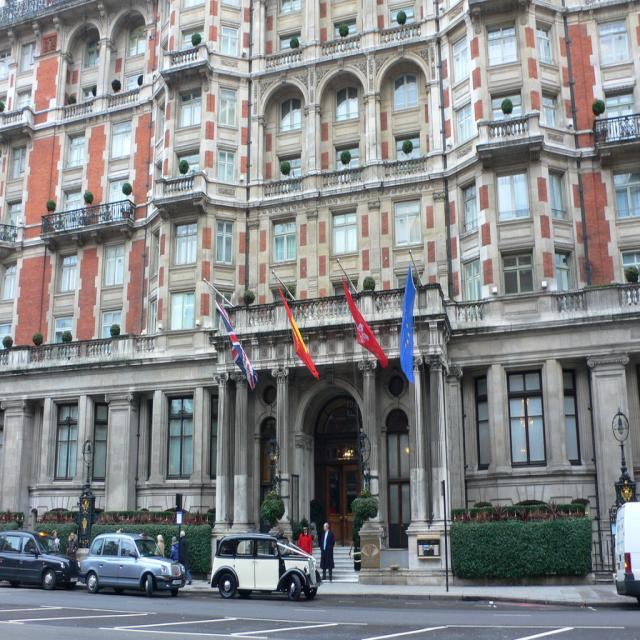car: (204, 534, 304, 607), (81, 534, 184, 596)
